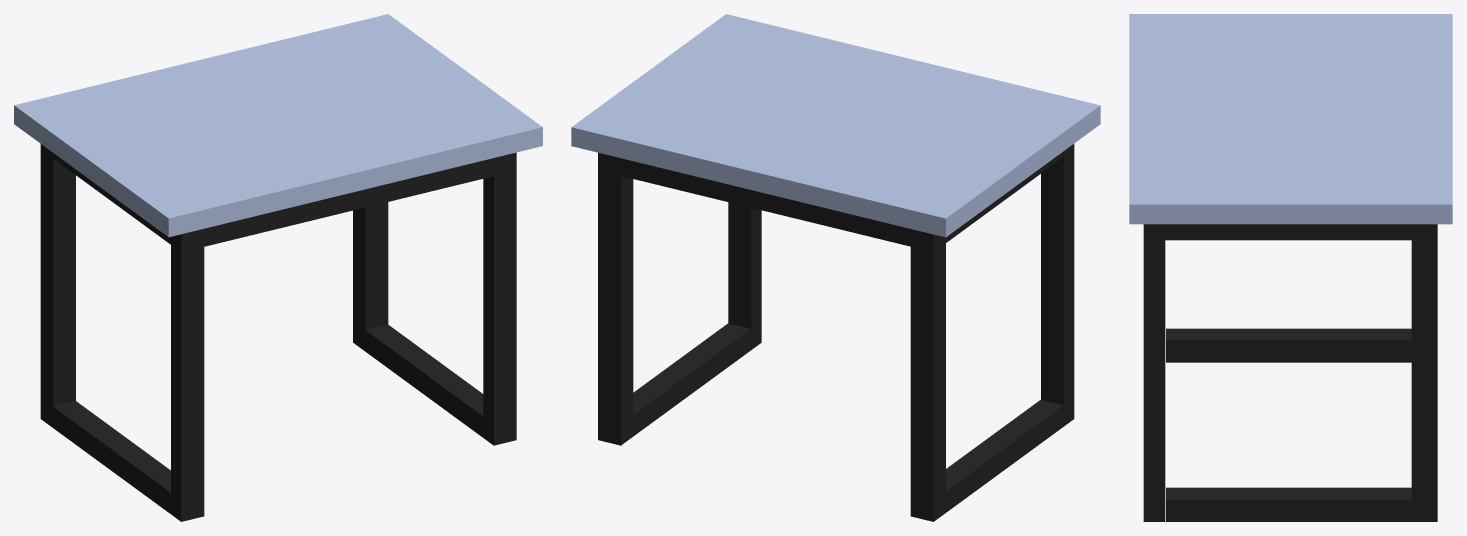
File: Mesa.fbx
The picture shows the model from 3 angles, left to right: view 1: azimuth 30°, elevation 25°; view 2: azimuth 150°, elevation 25°; view 3: azimuth 270°, elevation 25°; orthographic projection. The views are drawn at different scales.
Parts seen in each view (by area): view 1: Cubo; view 2: Cubo; view 3: Cubo.
Part boxes in pixels (left/top/right/bottom): Cubo: left=14, top=14, right=542, bottom=521; Cubo: left=571, top=14, right=1100, bottom=521; Cubo: left=1129, top=14, right=1452, bottom=521.
Size of the model in its own units: 491 by 393 by 352.
